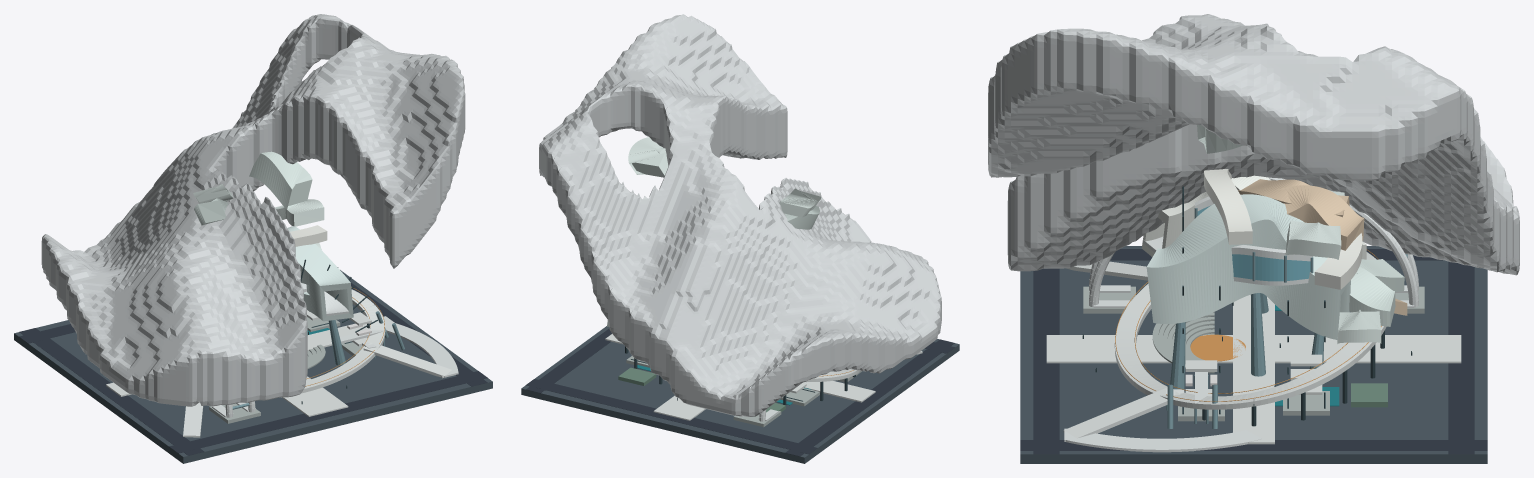
Rendered from a17_a_monolithic_rift_fold.glb.
3 views of the same model, side by side, from view 1: azimuth 30°, elevation 25°; view 2: azimuth 150°, elevation 25°; view 3: azimuth 270°, elevation 25° (orthographic). The views are drawn at different scales.
Visible parts, largest first — view 1: A17_MONOLITHIC_TECTONIC_CIVIC_FOLD, District base, E-W road, A10_EAST_INHABITED_TIDAL_SHELL, N-S road, A11_EAST_OCCUPIED_STRATUM_2, Continuous elliptical public promenade, A7_APPROACH_CURVED_DECK, Public ground, continuous N-S axis, Street to common ramp.001, A12_EAST_CROSS_ATRIUM_EXPOSED_CIVIC_DECK, Public ground, continuous E-W axis (+6 smaller); view 2: A17_MONOLITHIC_TECTONIC_CIVIC_FOLD, District base, E-W road.001, N-S road, A12_EAST_CROWN_OCULUS_EXPOSED_CIVIC_DECK, N-S road.001, Public ground, continuous E-W axis, A12_WEST_SKY_OCULUS_EXPOSED_CIVIC_DECK, Public ground, continuous N-S axis, Planted island.001, A11_WEST_OCCUPIED_STRATUM_2; view 3: A17_MONOLITHIC_TECTONIC_CIVIC_FOLD, District base, A10_EAST_INHABITED_TIDAL_SHELL, Public ground, continuous N-S axis, Continuous elliptical public promenade, E-W road.001, E-W road, Public ground, continuous E-W axis, N-S road.001, A11_EAST_OCCUPIED_STRATUM_1, A7_APPROACH_CURVED_DECK, A11_HIGH_CREST_TRANSECT (+19 smaller).
Boxes of the visible parts, x1=… form: A17_MONOLITHIC_TECTONIC_CIVIC_FOLD: x1=41, y1=14, x2=465, y2=406; District base: x1=14, y1=270, x2=492, y2=463; E-W road: x1=169, y1=371, x2=487, y2=453; A10_EAST_INHABITED_TIDAL_SHELL: x1=287, y1=226, x2=353, y2=321; N-S road: x1=19, y1=328, x2=204, y2=455; A11_EAST_OCCUPIED_STRATUM_2: x1=249, y1=151, x2=312, y2=209; Continuous elliptical public promenade: x1=281, y1=289, x2=385, y2=397; A7_APPROACH_CURVED_DECK: x1=384, y1=320, x2=458, y2=378; Public ground, continuous N-S axis: x1=282, y1=376, x2=348, y2=416; Street to common ramp.001: x1=363, y1=342, x2=451, y2=377; A12_EAST_CROSS_ATRIUM_EXPOSED_CIVIC_DECK: x1=275, y1=199, x2=324, y2=226; Public ground, continuous E-W axis: x1=106, y1=316, x2=394, y2=396; A17_MONOLITHIC_TECTONIC_CIVIC_FOLD: x1=539, y1=14, x2=941, y2=416; District base: x1=521, y1=326, x2=959, y2=463; E-W road.001: x1=526, y1=379, x2=817, y2=454; N-S road: x1=785, y1=339, x2=954, y2=456; A12_EAST_CROWN_OCULUS_EXPOSED_CIVIC_DECK: x1=628, y1=137, x2=668, y2=177; N-S road.001: x1=526, y1=328, x2=611, y2=393; Public ground, continuous E-W axis: x1=605, y1=334, x2=875, y2=402; A12_WEST_SKY_OCULUS_EXPOSED_CIVIC_DECK: x1=779, y1=188, x2=821, y2=217; Public ground, continuous N-S axis: x1=653, y1=395, x2=705, y2=420; Planted island.001: x1=618, y1=367, x2=656, y2=385; A11_WEST_OCCUPIED_STRATUM_2: x1=785, y1=206, x2=819, y2=229; A17_MONOLITHIC_TECTONIC_CIVIC_FOLD: x1=988, y1=14, x2=1519, y2=275; District base: x1=1020, y1=246, x2=1487, y2=463; A10_EAST_INHABITED_TIDAL_SHELL: x1=1146, y1=194, x2=1350, y2=339; Public ground, continuous N-S axis: x1=1046, y1=335, x2=1461, y2=363; Continuous elliptical public promenade: x1=1114, y1=252, x2=1386, y2=409; E-W road.001: x1=1448, y1=261, x2=1474, y2=454; E-W road: x1=1033, y1=268, x2=1059, y2=454; Public ground, continuous E-W axis: x1=1233, y1=294, x2=1274, y2=444; N-S road.001: x1=1020, y1=440, x2=1487, y2=450; A11_EAST_OCCUPIED_STRATUM_1: x1=1277, y1=185, x2=1364, y2=250; A7_APPROACH_CURVED_DECK: x1=1064, y1=428, x2=1261, y2=452; A11_HIGH_CREST_TRANSECT: x1=1204, y1=169, x2=1252, y2=244.
Size of the model in its own units: 208 by 178 by 202.
